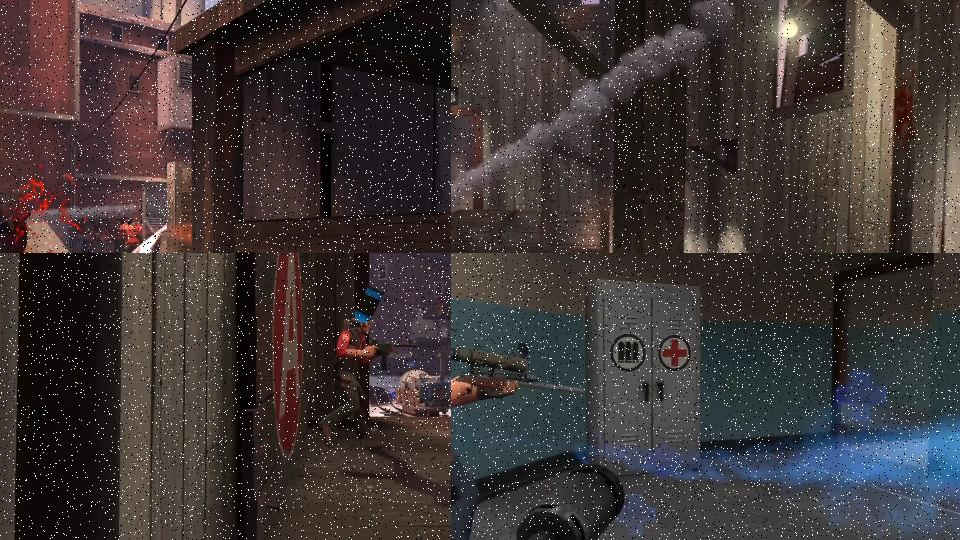Enemy: (451, 295, 585, 540), (317, 315, 420, 451), (0, 184, 32, 253), (118, 215, 143, 253), (86, 220, 109, 252)
